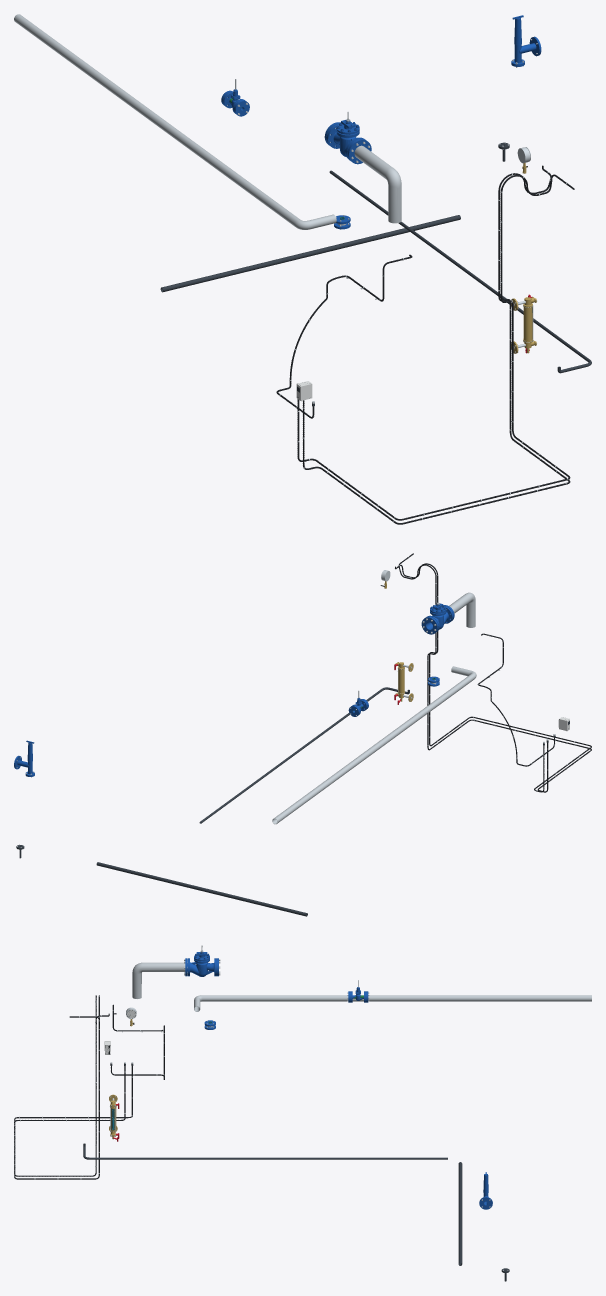
File: s4000-5-uNzaGrI7.glb
3 views of the same model, one above another, from view 1: azimuth 30°, elevation 25°; view 2: azimuth 150°, elevation 25°; view 3: azimuth 270°, elevation 25° (orthographic). The views are drawn at different scales.
Visible parts, largest first — view 1: safety_vent_2 / steel, wiring_pressure_switch_1 / black, wiring_pressure_transmitter / black, bottom_discharge / dark, steam_rise / steel, tds_common / dark, gpz CAD solid 0, sight_glasses_1 / sight_glasses_1_0.npz, wiring_high_level / black, flash_steam_common / blue; view 2: safety_vent_2 / steel, wiring_pressure_switch_1 / black, bottom_discharge / dark, wiring_pressure_transmitter / black, tds_common / dark, steam_rise / steel; view 3: safety_vent_2 / steel, tds_common / dark, wiring_pressure_transmitter / black, wiring_pressure_switch_1 / black, steam_rise / steel, gpz CAD solid 0, bottom_discharge / dark.
Part boxes in pixels (left/top/right/bottom): safety_vent_2 / steel: left=14, top=14, right=336, bottom=229; wiring_pressure_switch_1 / black: left=302, top=173, right=574, bottom=524; wiring_pressure_transmitter / black: left=297, top=165, right=570, bottom=520; bottom_discharge / dark: left=160, top=215, right=460, bottom=292; steam_rise / steel: left=354, top=145, right=401, bottom=223; tds_common / dark: left=329, top=170, right=591, bottom=373; gpz CAD solid 0: left=326, top=111, right=364, bottom=160; sight_glasses_1 / sight_glasses_1_0.npz: left=511, top=294, right=537, bottom=353; wiring_high_level / black: left=276, top=254, right=412, bottom=418; flash_steam_common / blue: left=511, top=15, right=541, bottom=66; safety_vent_2 / steel: left=272, top=666, right=476, bottom=824; wiring_pressure_switch_1 / black: left=398, top=553, right=591, bottom=792; bottom_discharge / dark: left=96, top=862, right=307, bottom=916; wiring_pressure_transmitter / black: left=395, top=563, right=591, bottom=792; tds_common / dark: left=199, top=687, right=409, bottom=823; steam_rise / steel: left=449, top=592, right=475, bottom=627; safety_vent_2 / steel: left=194, top=995, right=591, bottom=1011; tds_common / dark: left=83, top=1143, right=447, bottom=1159; wiring_pressure_transmitter / black: left=14, top=995, right=132, bottom=1176; wiring_pressure_switch_1 / black: left=14, top=995, right=125, bottom=1179; steam_rise / steel: left=132, top=962, right=185, bottom=998; gpz CAD solid 0: left=187, top=945, right=216, bottom=976; bottom_discharge / dark: left=458, top=1162, right=462, bottom=1265.
Size of the model in its own units: 4.99 by 2.95 by 7.03.
